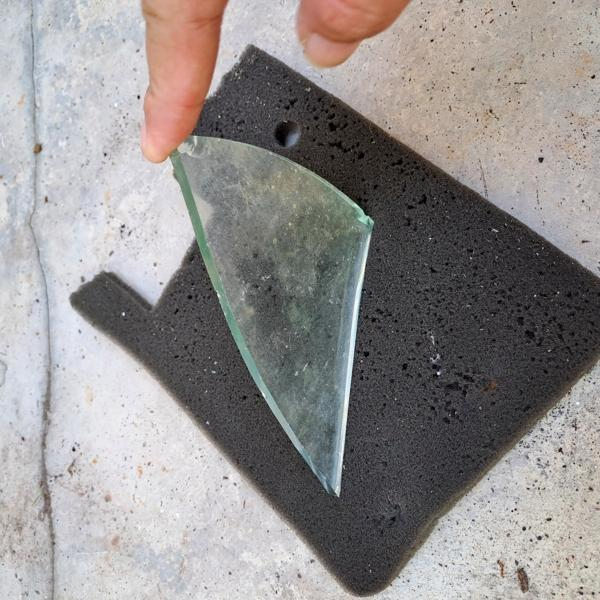Anorganik: (156, 126, 390, 510)
